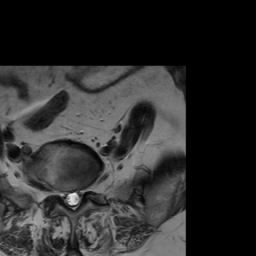CCS_normal: (68, 184, 75, 215)
LFS_stenosis: (82, 180, 90, 201)
LLS_normal: (75, 184, 82, 210)
RFS_stenosis: (54, 183, 61, 203)
RLS_normal: (61, 184, 68, 208)
